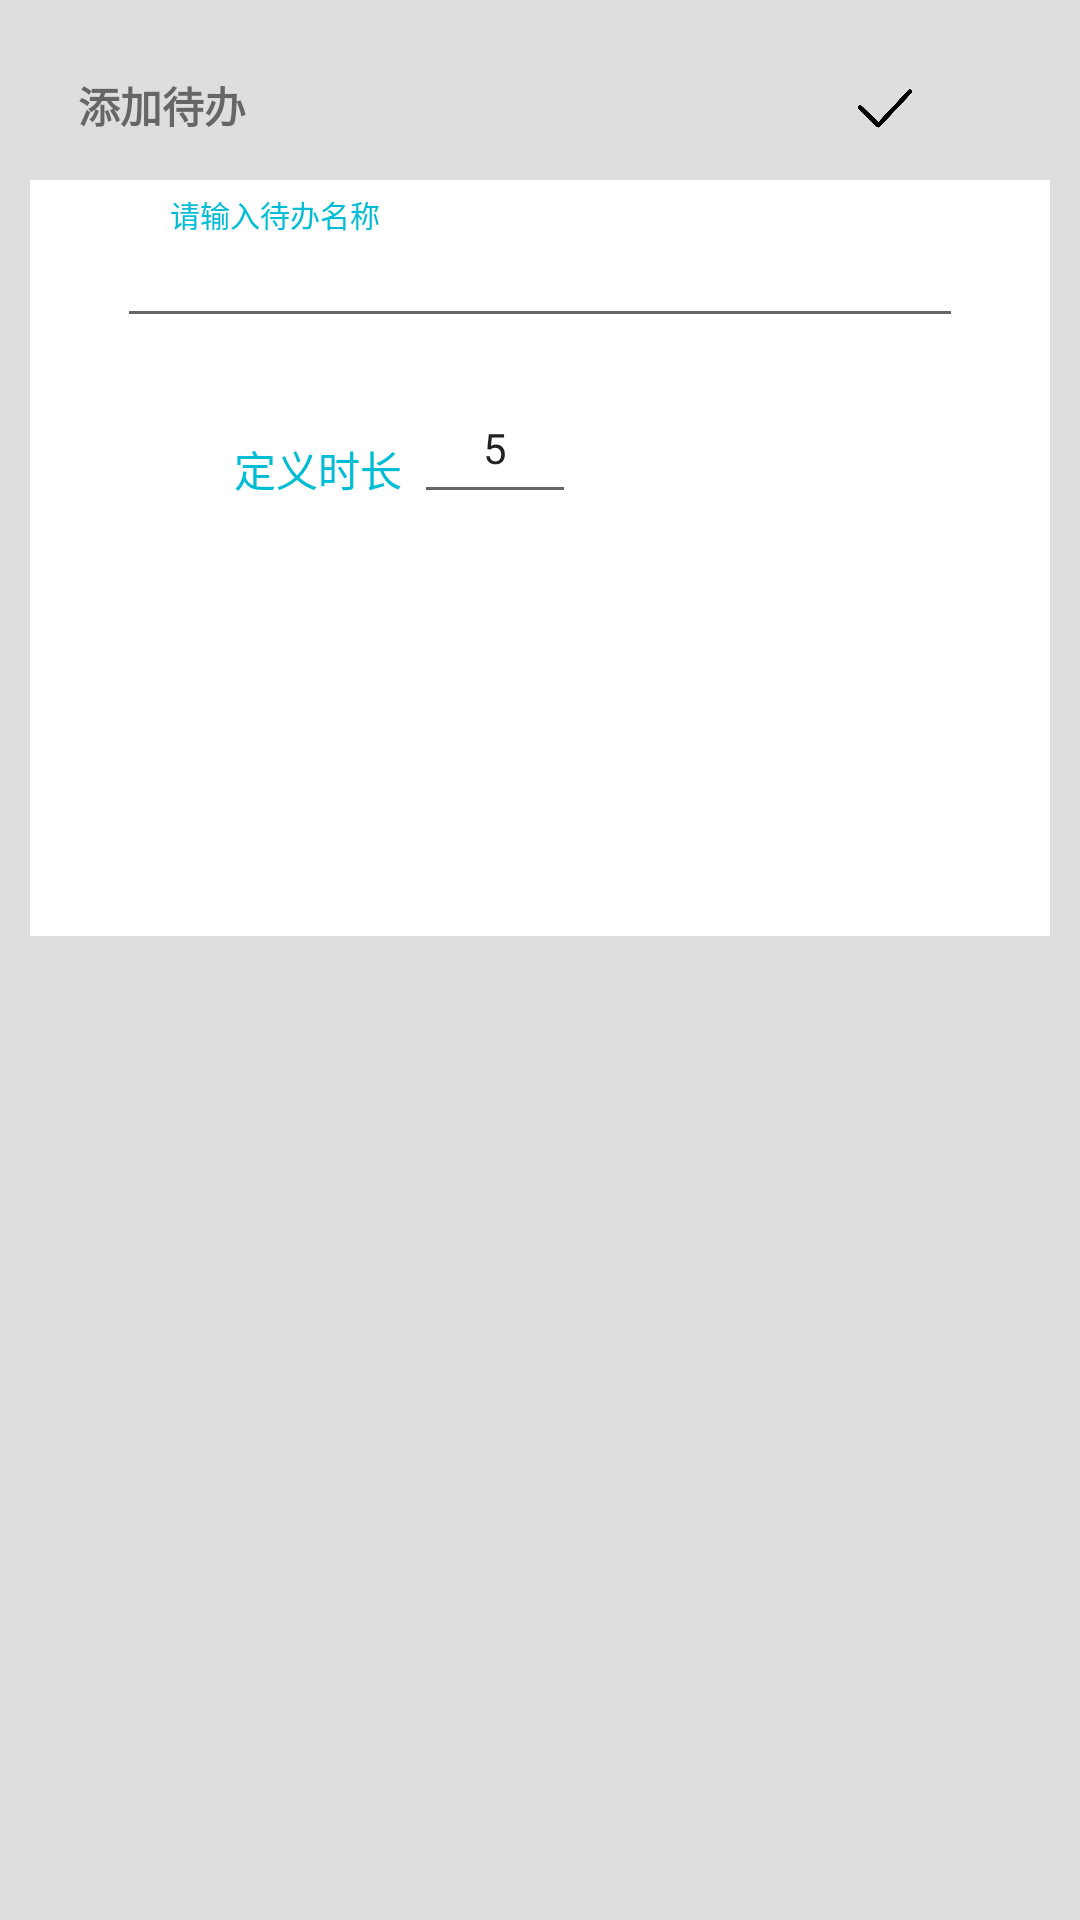

Icon click points for this 1080 x 1920 phone screenshot, format (x,y):
true: (885,108)
